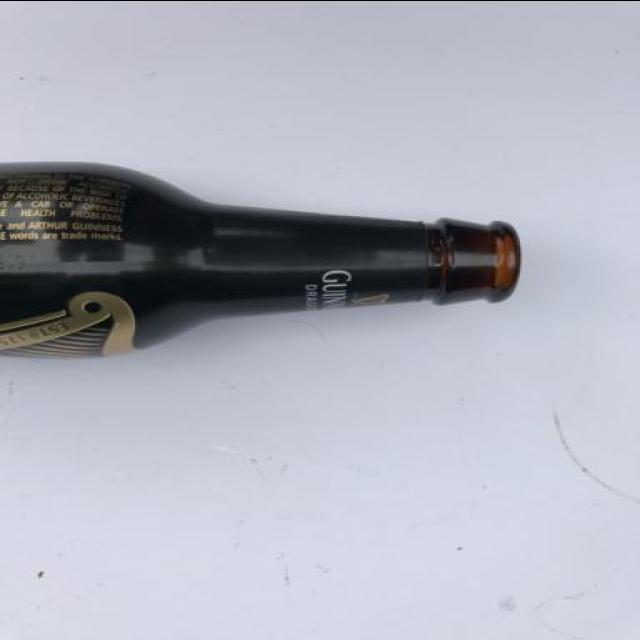litter: (5, 158, 525, 362)
